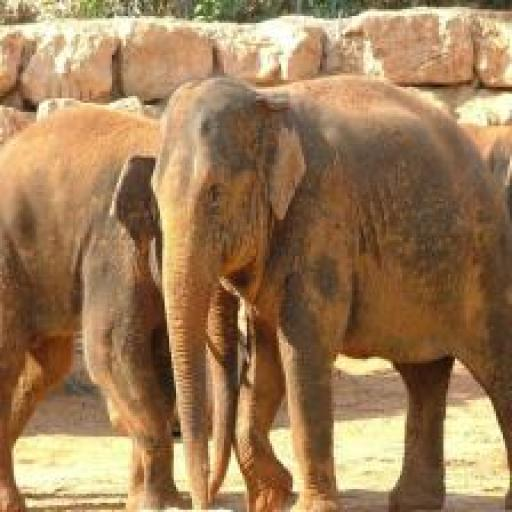Elephant: (2, 82, 512, 511)
